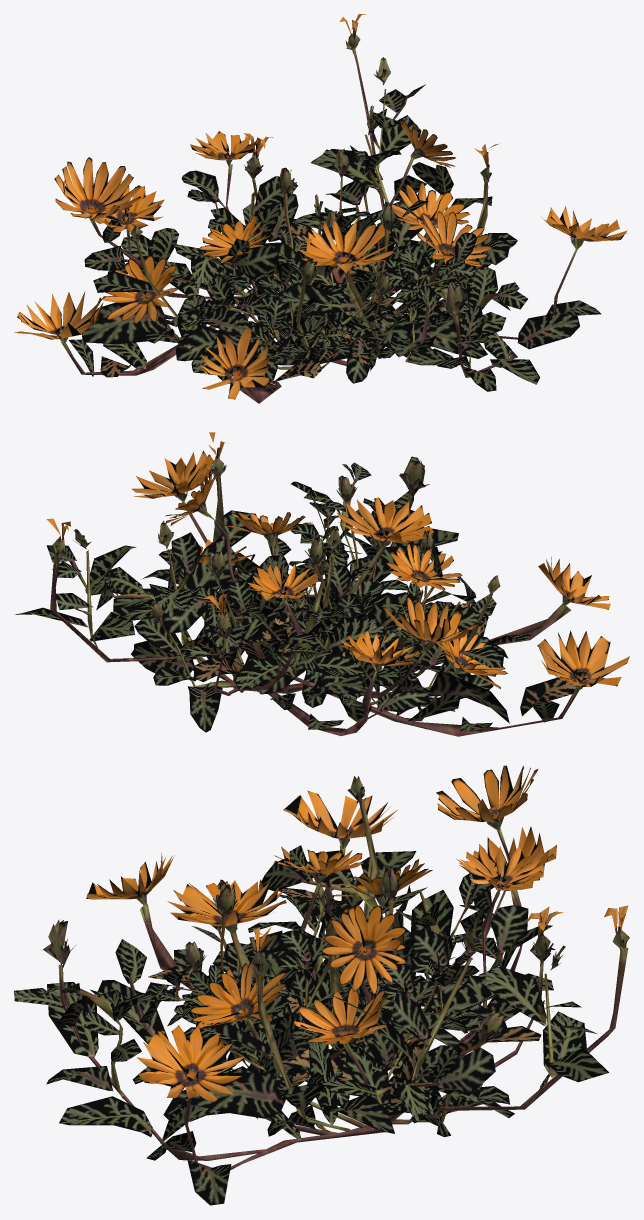
Rendered from ph_flower_ursinia.glb.
3 views of the same model, one above another, from view 1: azimuth 30°, elevation 25°; view 2: azimuth 150°, elevation 25°; view 3: azimuth 270°, elevation 25° (orthographic). The views are drawn at different scales.
Visible parts, largest first — view 1: v0, v1, v2, v3, v4; view 2: v0, v1, v2, v3, v4; view 3: v0, v1, v2, v3, v4.
Boxes of the visible parts, <box> form: v0: <box>14,14,627,403</box>; v1: <box>54,133,476,368</box>; v2: <box>102,120,492,381</box>; v3: <box>175,167,445,380</box>; v4: <box>184,228,376,383</box>; v0: <box>15,432,629,736</box>; v1: <box>130,502,484,732</box>; v2: <box>162,469,508,721</box>; v3: <box>258,475,470,707</box>; v4: <box>279,602,421,702</box>; v0: <box>14,776,629,1205</box>; v1: <box>90,765,563,1137</box>; v2: <box>155,859,507,1082</box>; v3: <box>189,864,461,1097</box>; v4: <box>183,937,462,1106</box>.
Size of the model in its own units: 0.424 by 0.1637 by 0.3369.
Materials: 1 (1 with a texture image).
